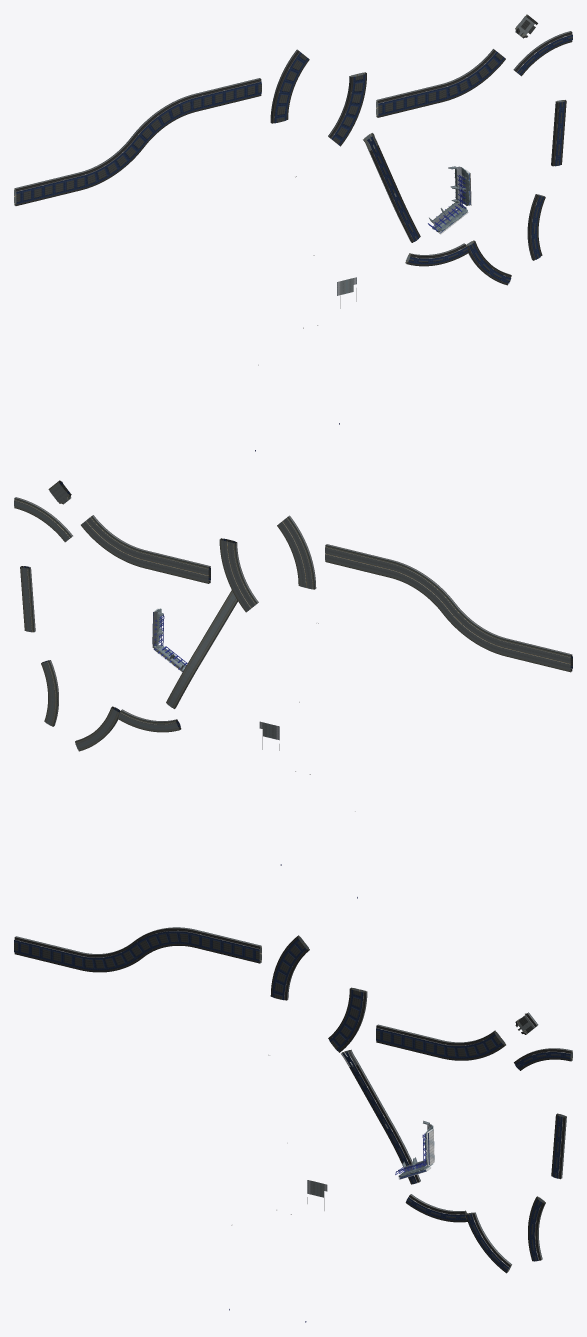
File: comntop_comntop__part_04.obj
The picture shows the model from 3 angles, top to bottom: view 1: azimuth 30°, elevation 25°; view 2: azimuth 150°, elevation 25°; view 3: azimuth 330°, elevation 25°; orthographic projection.
Visible parts, largest first — view 1: comntop_comntop__part_04; view 2: comntop_comntop__part_04; view 3: comntop_comntop__part_04.
Boxes of the visible parts, x1=… form: comntop_comntop__part_04: x1=14, y1=14, x2=572, y2=451; comntop_comntop__part_04: x1=14, y1=480, x2=572, y2=898; comntop_comntop__part_04: x1=14, y1=927, x2=572, y2=1322.
Size of the model in its own units: 834 by 542 by 60.35.
Materials: 96 (96 with a texture image).
